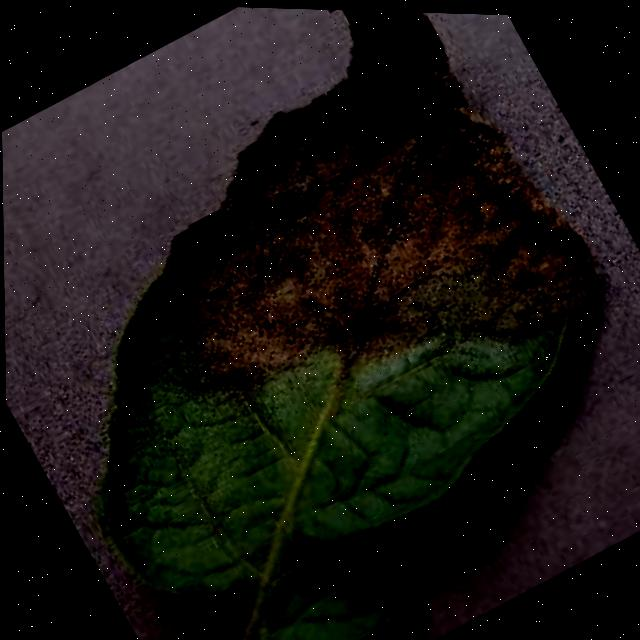Late_blight: (36, 1, 635, 507)
